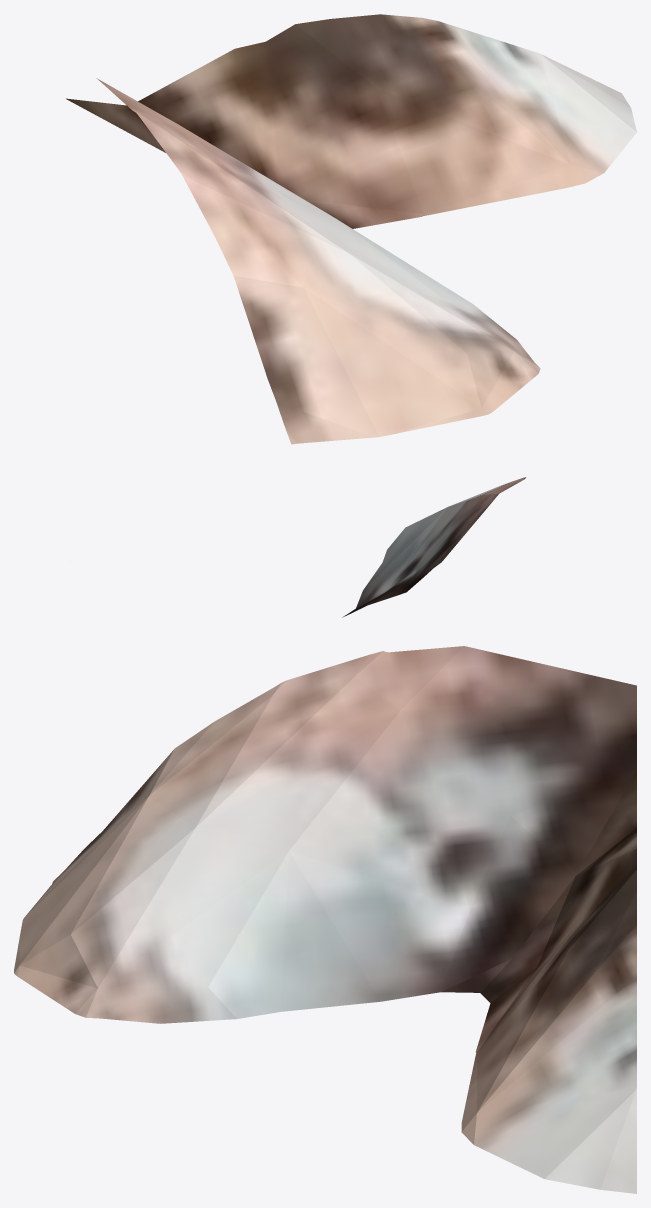
The picture shows the model from 3 angles, top to bottom: view 1: azimuth 30°, elevation 25°; view 2: azimuth 150°, elevation 25°; view 3: azimuth 270°, elevation 25°; orthographic projection. The views are drawn at different scales.
Bounding box in the file's own units: 0.2578 × 0.0907 × 0.2173.
1 material, 1 textured.
